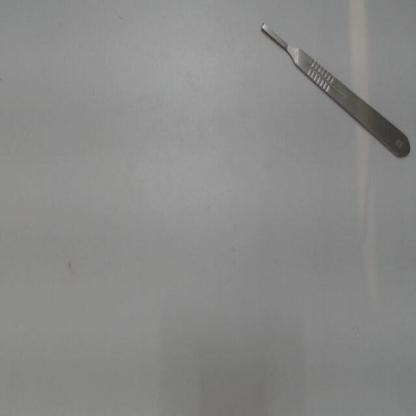No.4 BP Handle: (249, 7, 416, 170)
